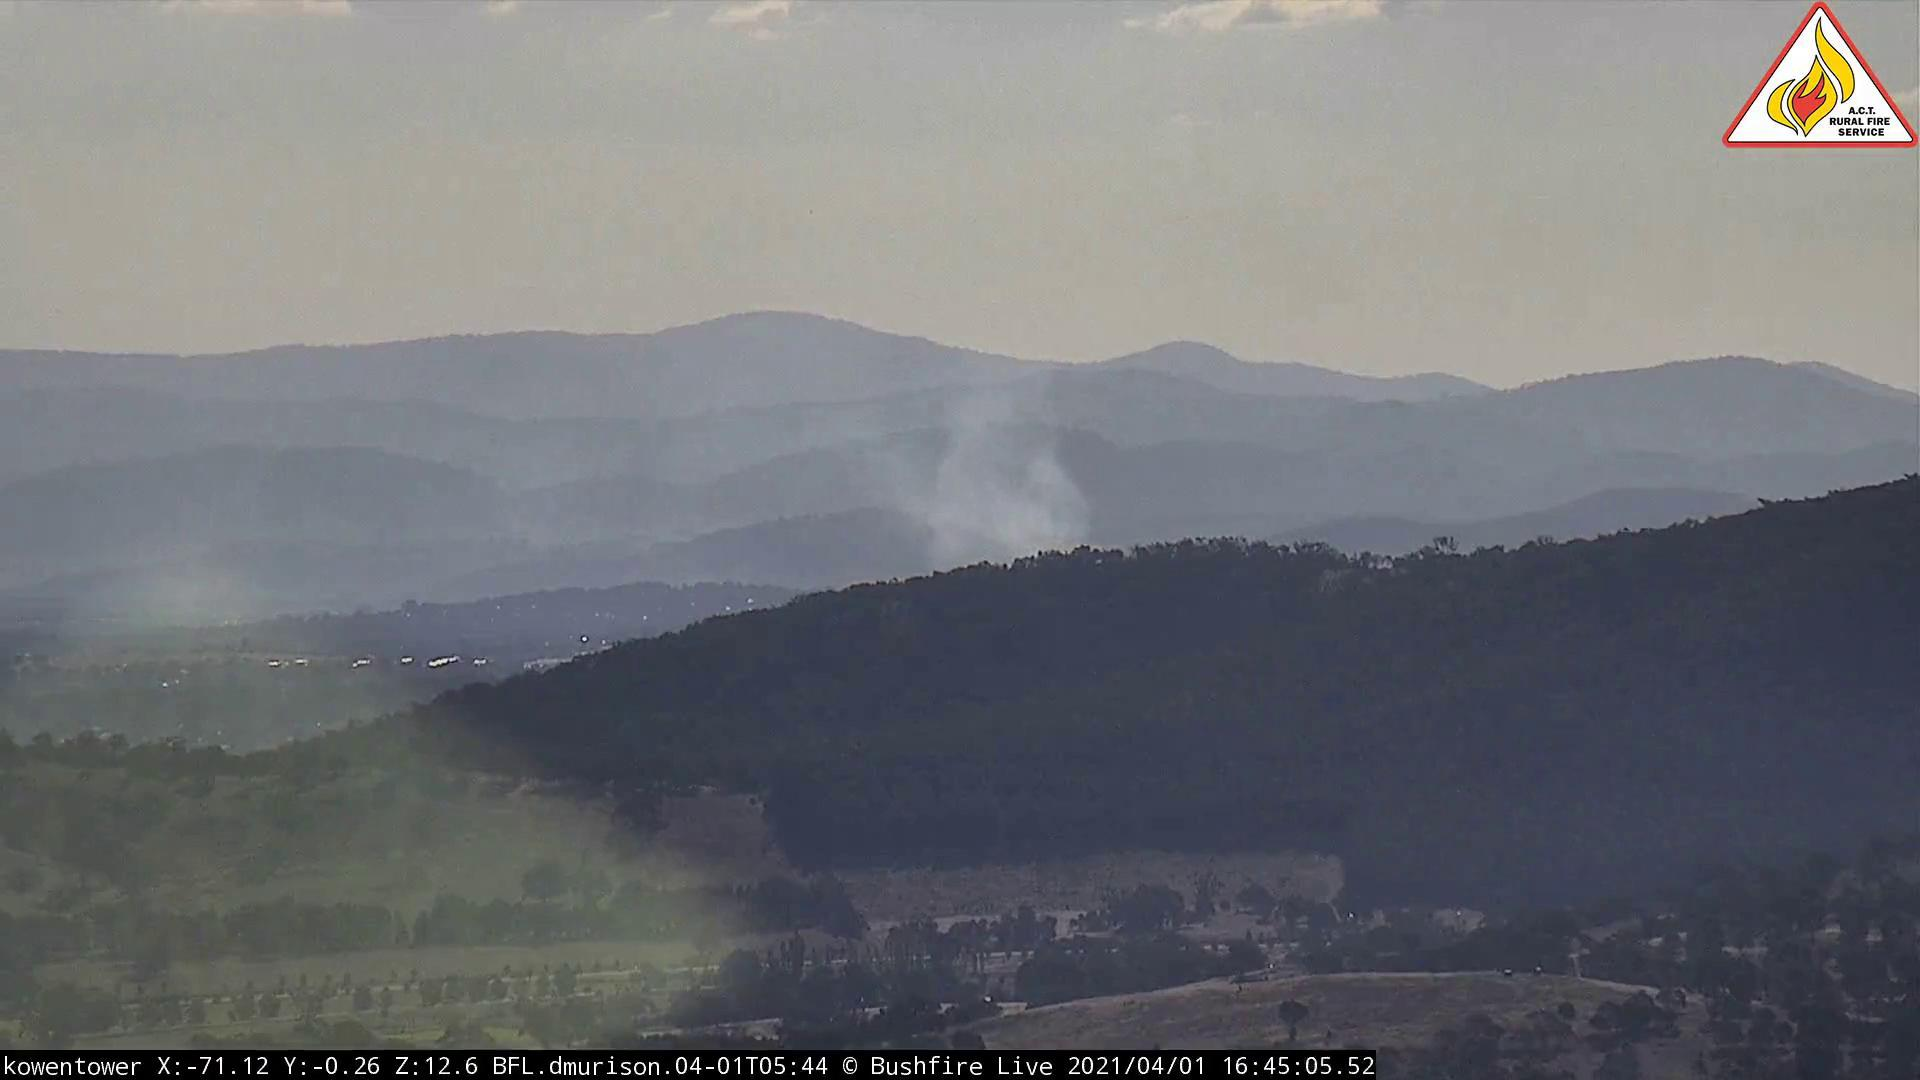Smoke: (855, 336, 1127, 582)
